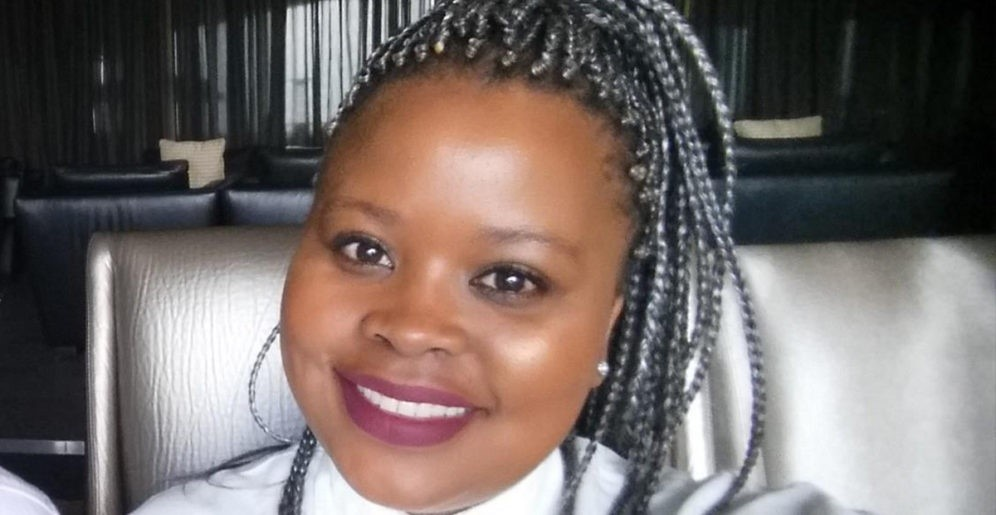face_no_mask: (278, 3, 668, 514)
